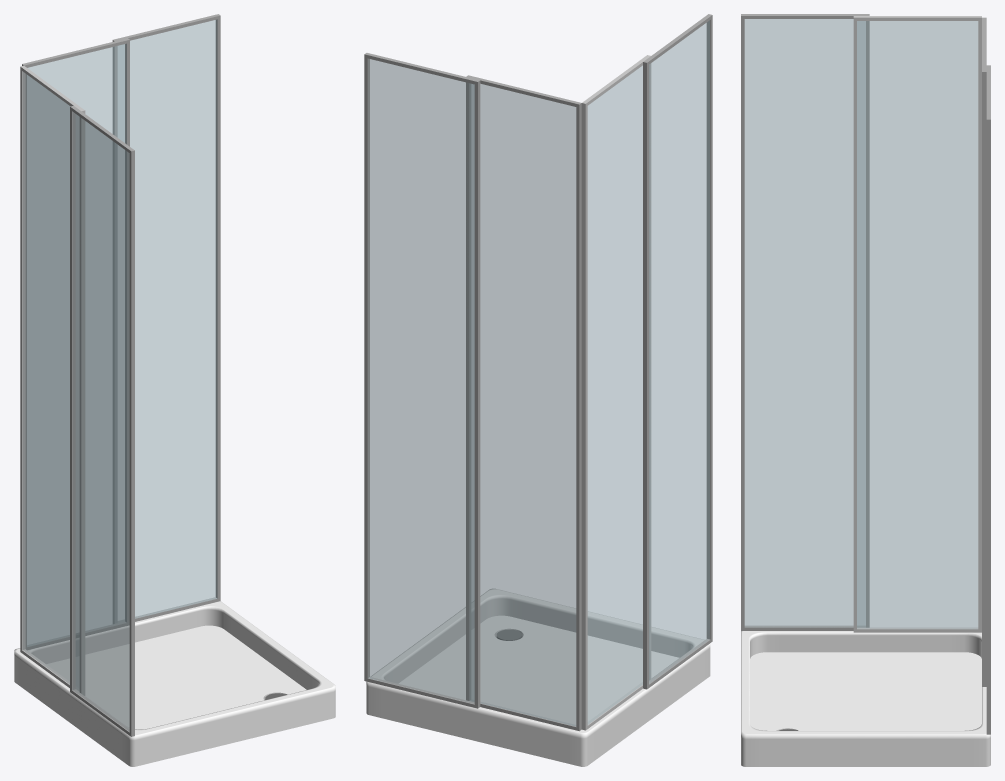
The model's file is shower.obj.
3 views of the same model, side by side, from view 1: azimuth 30°, elevation 25°; view 2: azimuth 150°, elevation 25°; view 3: azimuth 270°, elevation 25° (orthographic). The views are drawn at different scales.
Visible parts, largest first — view 1: Box16_4, Box18_6, Box20_10, Rectangle06_2, Box19_8, Rectangle12_7, Rectangle13_9, Rectangle07_3, Rectangle11_5; view 2: Box16_4, Box18_6, Box20_10, Box19_8, Rectangle06_2, Rectangle07_3, Rectangle13_9, Rectangle11_5, Rectangle12_7; view 3: Box19_8, Box20_10, Rectangle06_2, Rectangle12_7, Rectangle13_9, Rectangle07_3, Rectangle11_5.
Boxes of the visible parts, <box> form: Box16_4: <box>118,20,217,618</box>; Box18_6: <box>27,44,126,646</box>; Box20_10: <box>73,112,129,730</box>; Rectangle06_2: <box>14,601,335,766</box>; Box19_8: <box>23,72,79,688</box>; Rectangle12_7: <box>20,65,85,695</box>; Rectangle13_9: <box>70,105,134,736</box>; Rectangle07_3: <box>112,14,220,623</box>; Rectangle11_5: <box>22,38,129,650</box>; Box16_4: <box>368,59,474,703</box>; Box18_6: <box>470,84,576,726</box>; Box20_10: <box>649,20,709,683</box>; Box19_8: <box>587,65,642,724</box>; Rectangle06_2: <box>366,588,710,766</box>; Rectangle07_3: <box>364,53,480,708</box>; Rectangle13_9: <box>643,14,712,689</box>; Rectangle11_5: <box>466,75,581,731</box>; Rectangle12_7: <box>581,55,651,730</box>; Box19_8: <box>857,21,978,629</box>; Box20_10: <box>744,19,865,627</box>; Rectangle06_2: <box>741,631,990,766</box>; Rectangle12_7: <box>853,16,981,632</box>; Rectangle13_9: <box>741,14,869,630</box>; Rectangle07_3: <box>986,65,990,734</box>; Rectangle11_5: <box>982,17,986,686</box>.
Bounding box in the file's own units: 70.02 × 200 × 70.
